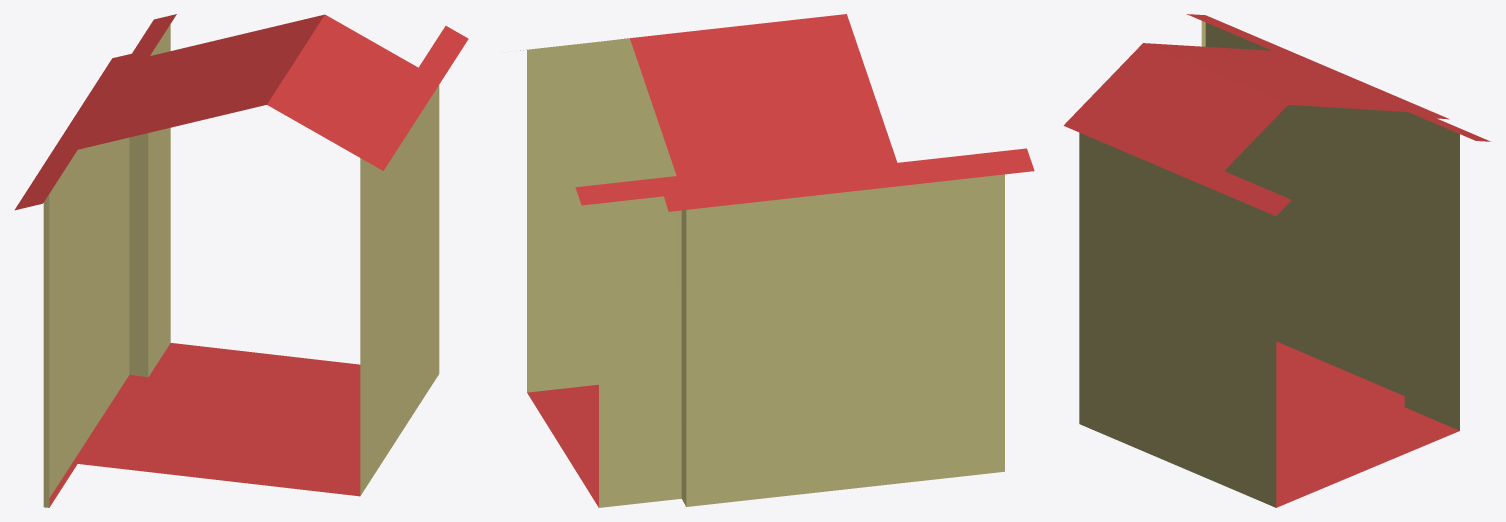
3 views of the same model, side by side, from view 1: azimuth 30°, elevation 25°; view 2: azimuth 150°, elevation 25°; view 3: azimuth 270°, elevation 25° (orthographic). The views are drawn at different scales.
Bounding box in the file's own units: 11.85 × 9.6 × 8.76.
